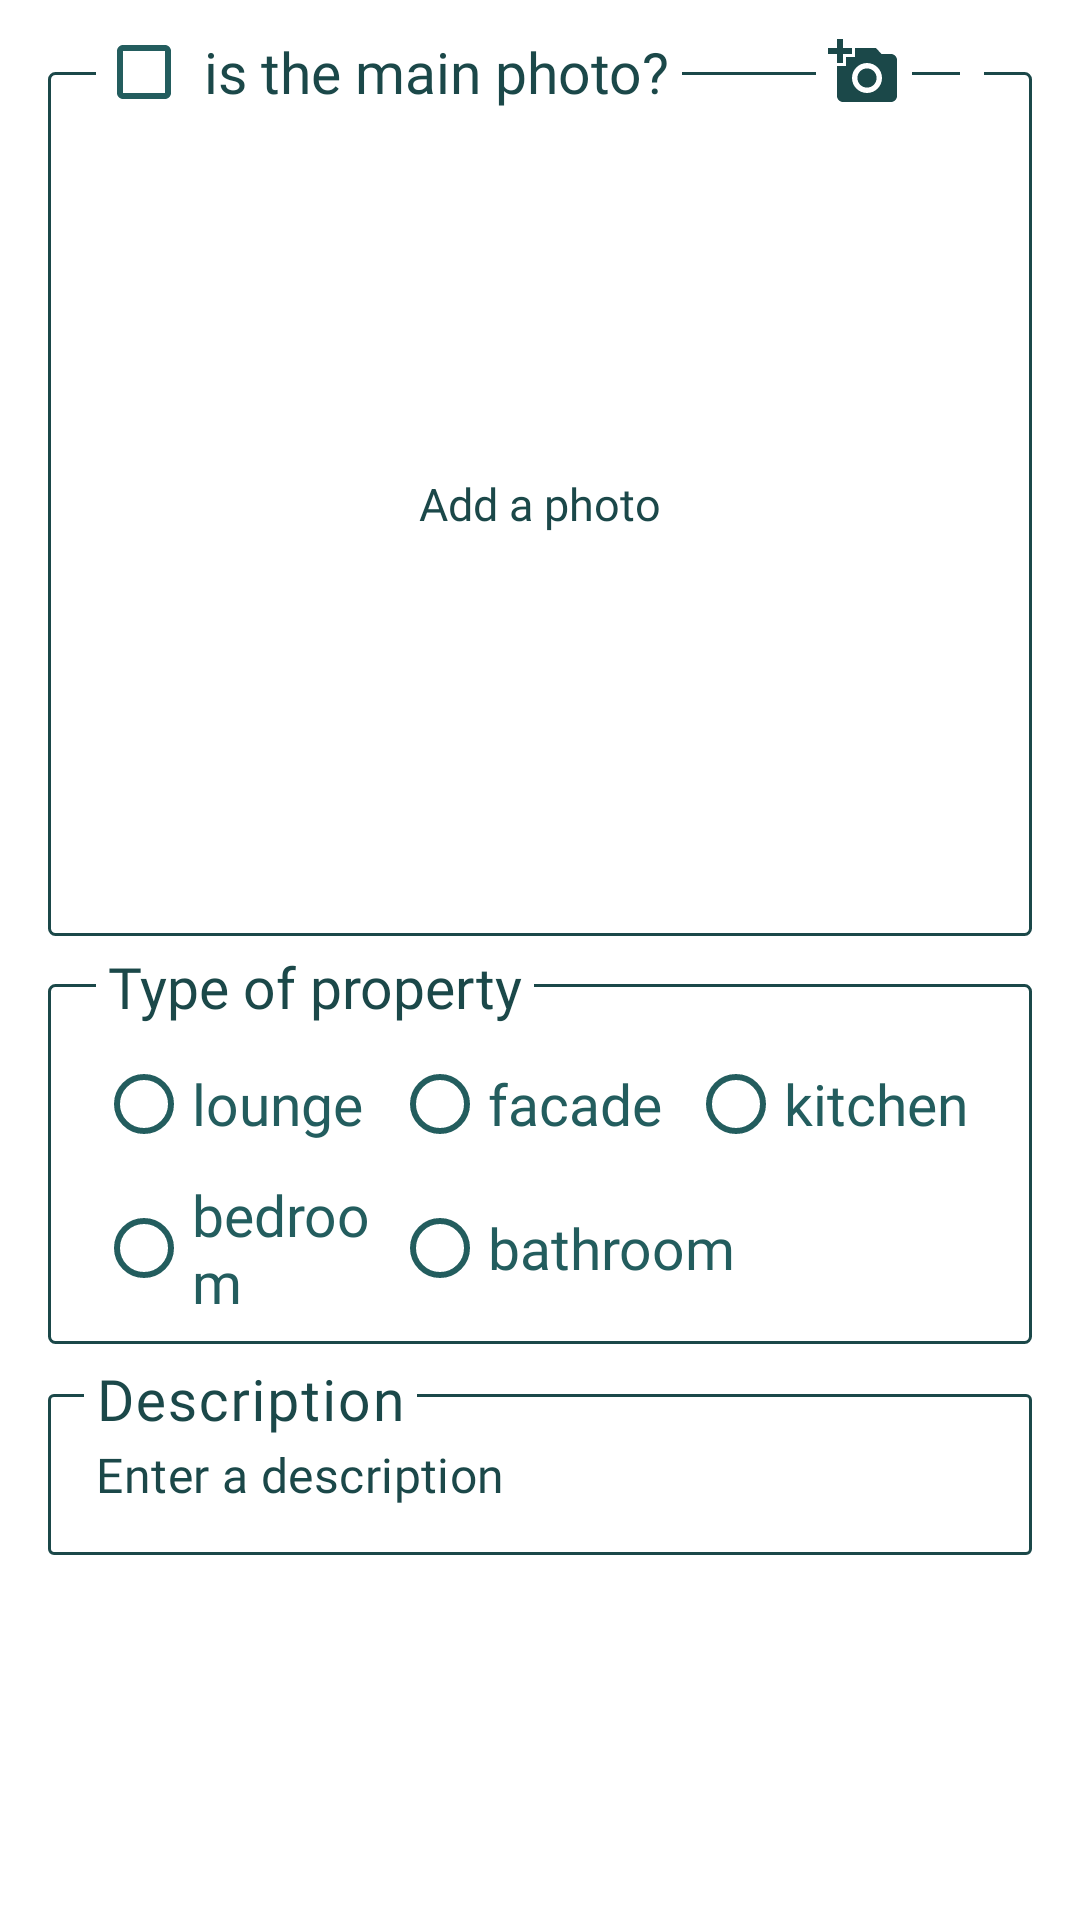

Screen size 1080 x 1920. Icon name, then its box in pixels as detection(x1, y1, x2, y2):
add photo: detection(828, 39, 897, 102)
